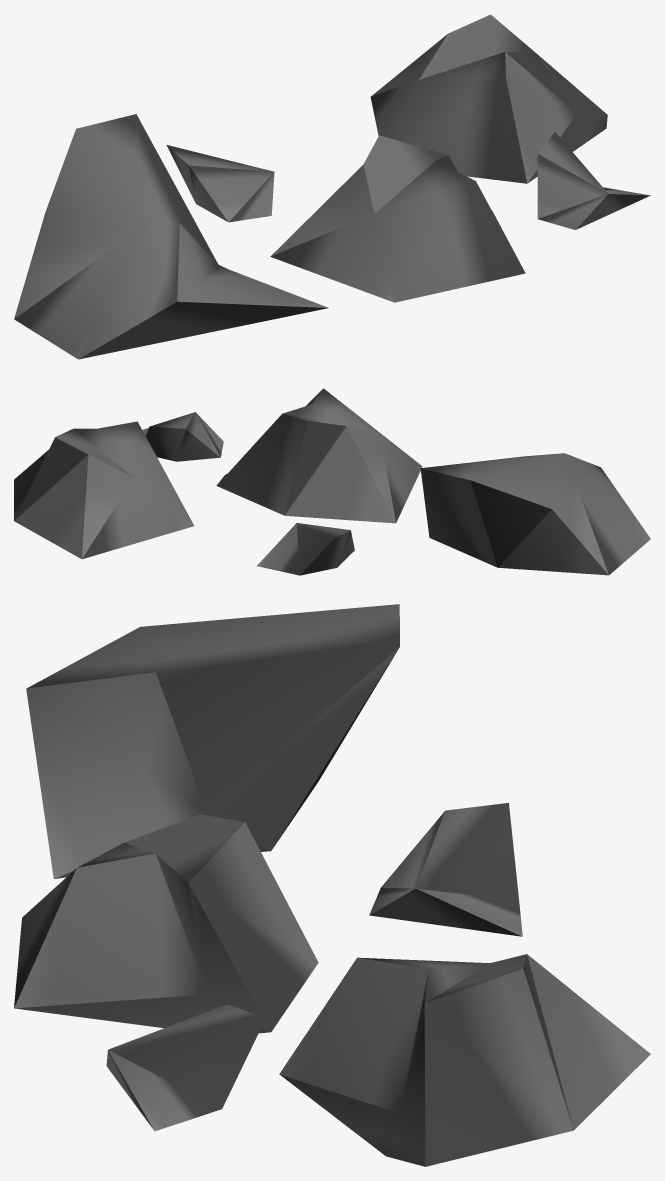
The model's file is 20200828_Stones.fbx.
3 views of the same model, one above another, from view 1: azimuth 30°, elevation 25°; view 2: azimuth 150°, elevation 25°; view 3: azimuth 270°, elevation 25° (orthographic). The views are drawn at different scales.
Visible parts, largest first — view 1: Circle.002, Circle.001, Circle.003, Circle.004, Circle; view 2: Circle.002, Circle.003, Circle.001, Circle, Circle.004; view 3: Circle.002, Circle.003, Circle.001, Circle, Circle.004.
Part boxes in pixels (box(x1,y1,x2,y2)): Circle.002: box(14, 114, 328, 359); Circle.001: box(270, 135, 525, 302); Circle.003: box(370, 14, 607, 183); Circle.004: box(537, 132, 650, 229); Circle: box(166, 145, 274, 222); Circle.002: box(420, 453, 650, 575); Circle.003: box(14, 421, 194, 559); Circle.001: box(216, 388, 422, 523); Circle: box(257, 523, 354, 575); Circle.004: box(142, 412, 223, 461); Circle.002: box(26, 604, 399, 878); Circle.003: box(279, 954, 650, 1166); Circle.001: box(14, 814, 318, 1033); Circle: box(369, 803, 522, 936); Circle.004: box(106, 1004, 265, 1131).
Size of the model in its own units: 76.68 by 13.93 by 44.57.
